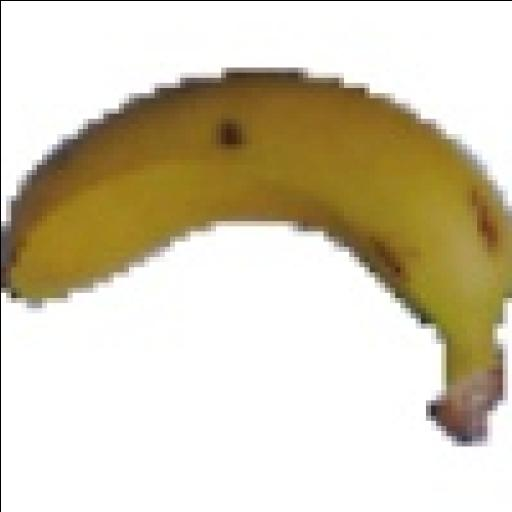banana: (6, 72, 511, 440)
